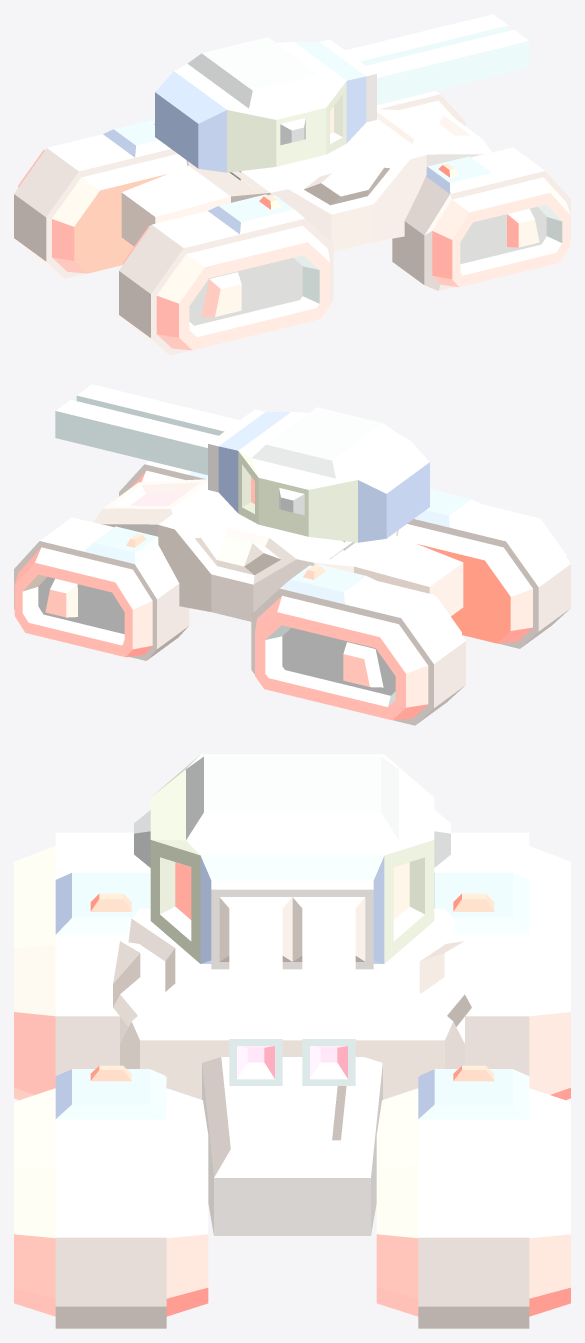
The model's file is SeigeTank.fbx.
3 renders of one model, top to bottom at view 1: azimuth 30°, elevation 25°; view 2: azimuth 150°, elevation 25°; view 3: azimuth 270°, elevation 25°, orthographic. The views are drawn at different scales.
Parts seen in each view (by area): view 1: Tank, TankHead; view 2: Tank, TankHead; view 3: Tank, TankHead.
Part boxes in pixels (box(x1,y1,x2,y2)): Tank: box(14, 91, 570, 355); TankHead: box(155, 14, 529, 180); Tank: box(14, 461, 570, 725); TankHead: box(55, 384, 429, 550); Tank: box(14, 832, 570, 1328); TankHead: box(134, 754, 450, 1085).
Bounding box in the file's own units: 708 × 322 × 461.
